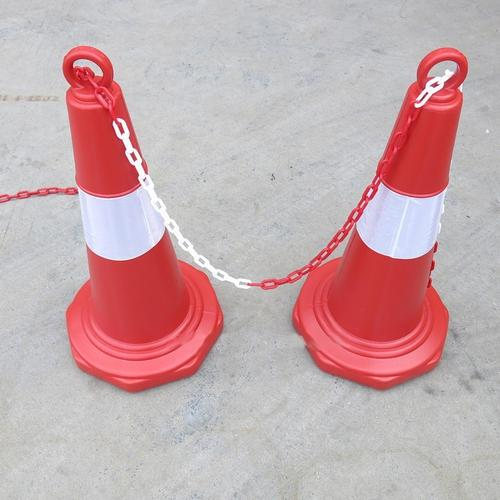cone_barrel: (313, 40, 476, 366), (55, 46, 210, 367)
